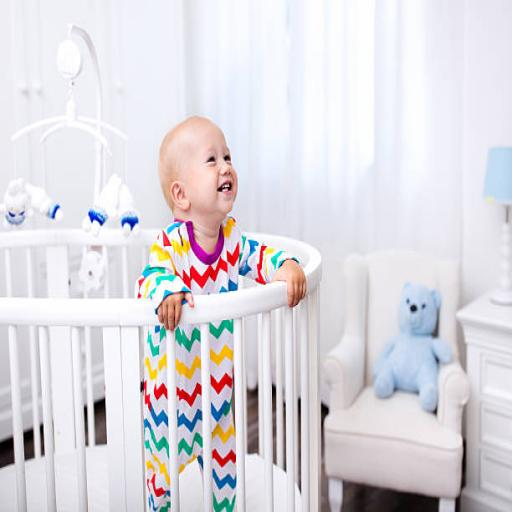baby: (136, 117, 306, 510)
crib: (160, 235, 321, 511)
